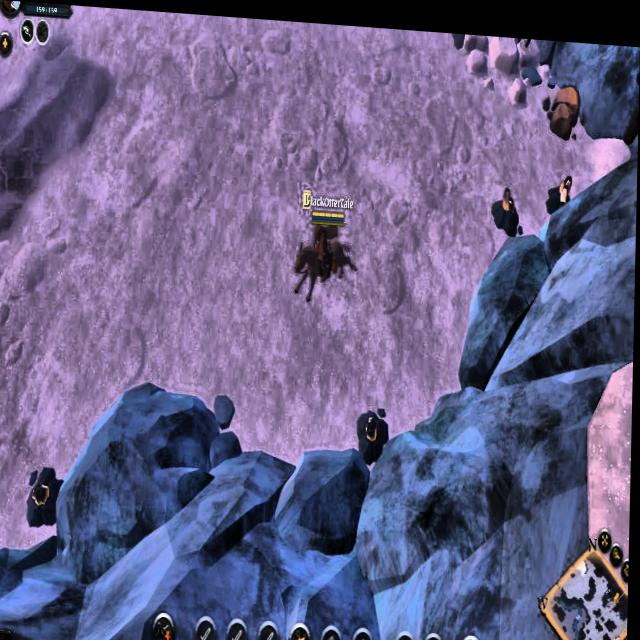copperore: (27, 463, 64, 529), (358, 396, 394, 459), (494, 174, 525, 232), (543, 162, 575, 204), (451, 26, 473, 43)
limestone: (545, 73, 582, 129)
